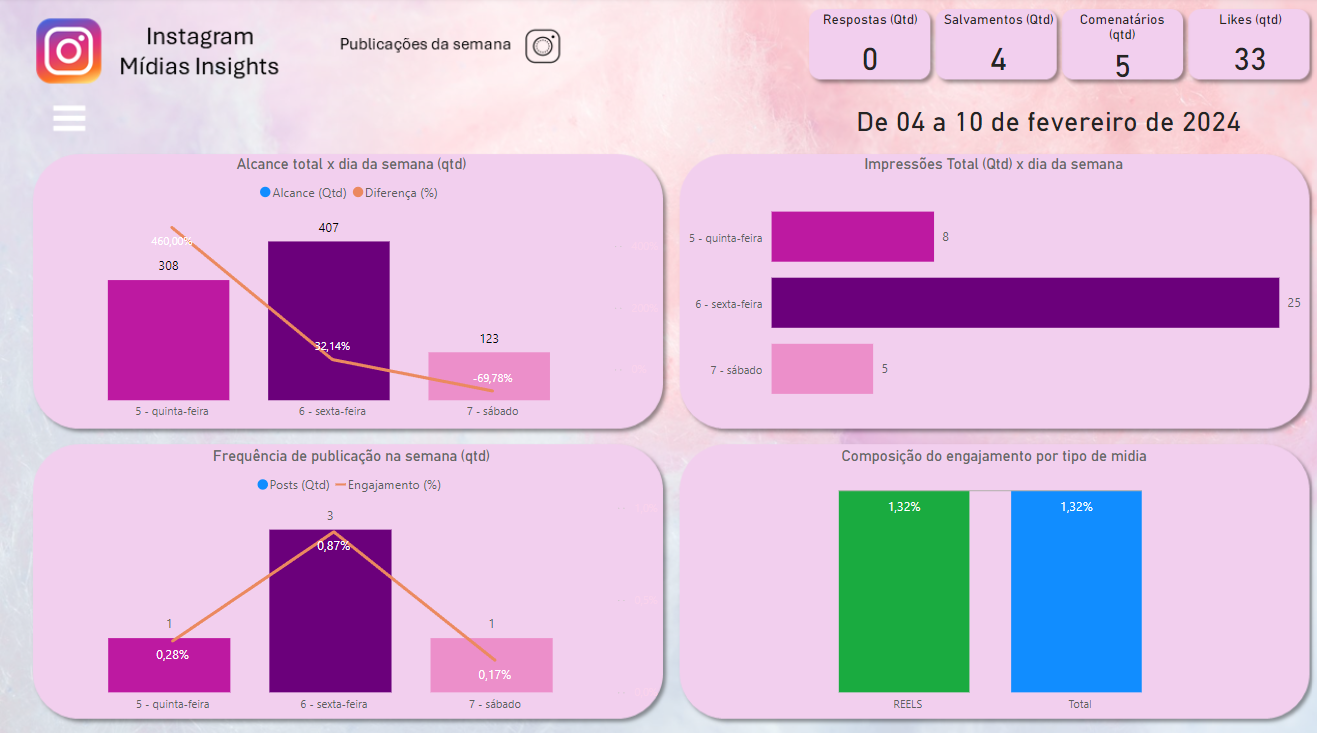

The page's visual inventory and layout, read from the dashboard file:
{"tool":"powerbi","page":{"name":"Midias Insight","canvas":[1280,720],"ordinal":0},"visuals":[{"type":"clusteredBarChart","title":"Impressões Total (Qtd) x dia da semana","fields":{"Category":["Dim_calendario.Dia_semana"],"Y":["medidas.impressoes_total"]},"box":[654.4,152.2,610,264.4],"z":0},{"type":"card","title":"Comenatários (qtd)","fields":{"Values":["medidas.qtd_comments"]},"box":[1023,14,120,72],"z":1000},{"type":"lineStackedColumnComboChart","title":"Frequência de publicação na semana (qtd)","fields":{"Category":["Dim_calendario.Dia_semana"],"Y":["medidas.qtd_postagem"],"Y2":["medidas.engajamento_total"]},"box":[37,434,603,265],"z":2000},{"type":"lineStackedColumnComboChart","title":"Alcance total x dia da semana (qtd)","fields":{"Category":["Dim_calendario.Dia_semana"],"Y":["medidas.alcance_total"],"Y2":["medidas.alcance_dif%"]},"box":[37,152,603,265.4],"z":3000},{"type":"waterfallChart","title":"Composição do engajamento por tipo de midia","fields":{"Category":["vFactMidias.media_product_type"],"Y":["medidas.engajamento_total"]},"box":[655,433.8,608.8,265],"z":4000},{"type":"card","title":"Likes (qtd)","fields":{"Values":["medidas.qtd_likes"]},"box":[1150,14,114,72],"z":5000},{"type":"card","title":"Salvamentos (Qtd)","fields":{"Values":["medidas.total_saves"]},"box":[905,14,118,72],"z":6000},{"type":"card","title":"Respostas (Qtd)","fields":{"Values":["medidas.replies"]},"box":[782,14,116,72],"z":7000},{"type":"card","fields":{"Values":["Min(Dim_calendario.Semana_ano_descrição)"]},"box":[782.2,94.4,461.1,50],"z":9000},{"type":"actionButton","box":[37.5,95,60,50],"z":10000},{"type":"actionButton","box":[495,25,56.2,42.5],"z":13000}]}

Visuals, with their boxes in screenshot pixels (x1, y1, x2, y2), scaled from the page's 1280x720 canvas onto the 1317x733 screenshot:
"Impressões Total (Qtd) x dia da semana" clusteredBarChart: 673 155 1301 424
"Comenatários (qtd)" card: 1053 14 1176 88
"Frequência de publicação na semana (qtd)" lineStackedColumnComboChart: 38 442 658 712
"Alcance total x dia da semana (qtd)" lineStackedColumnComboChart: 38 155 658 425
"Composição do engajamento por tipo de midia" waterfallChart: 674 442 1300 711
"Likes (qtd)" card: 1183 14 1301 88
"Salvamentos (Qtd)" card: 931 14 1053 88
"Respostas (Qtd)" card: 805 14 924 88
card - Min(Dim_calendario.Semana_ano_descrição): 805 96 1279 147
actionButton: 39 97 100 148
actionButton: 509 25 567 69
